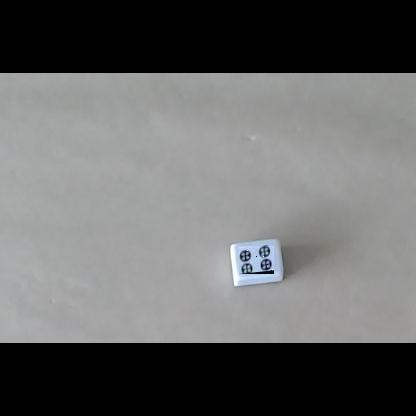4p: (238, 246, 274, 274)
